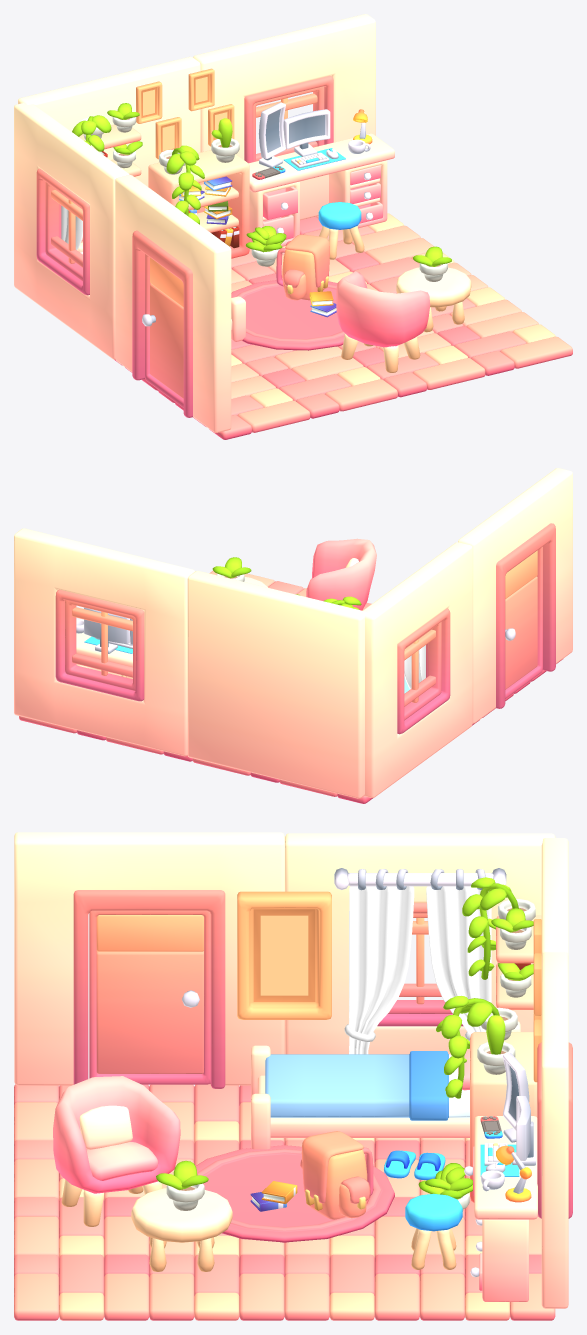
File: bedroom.glb
The picture shows the model from 3 angles, top to bottom: view 1: azimuth 30°, elevation 25°; view 2: azimuth 150°, elevation 25°; view 3: azimuth 270°, elevation 25°; orthographic projection. The views are drawn at different scales.
Parts seen in each view (by area): view 1: floor.001_35, wall_door.001_37, wall_window.001_38, wall_window.002_48, wall.001_40, chair.001_43, desk.001_44, rug.001_47, door.001_36, window.001_39, cabinet_01.001_42, window.002_49 (+18 smaller); view 2: wall.001_40, wall_window.002_48, wall_window.001_38, wall_door.001_37, window.002_49, door.001_36, window.001_39, chair.001_43, floor.001_35, computer_monitor_01_6, desk.001_44, plants_01.001_53 (+1 smaller); view 3: floor.001_35, wall_door.001_37, door.001_36, wall_window.001_38, bed.001_41, curtain.001_56, chair.001_43, frame.001_46, wall_window.002_48, rug.001_47, desk.001_44, bag_28 (+19 smaller).
Part boxes in pixels (left/top/right/bottom): floor.001_35: left=114, top=213, right=572, bottom=439; wall_door.001_37: left=115, top=175, right=231, bottom=432; wall_window.001_38: left=14, top=103, right=129, bottom=359; wall_window.002_48: left=193, top=14, right=375, bottom=220; wall.001_40: left=18, top=56, right=200, bottom=242; chair.001_43: left=335, top=271, right=430, bottom=372; desk.001_44: left=249, top=133, right=394, bottom=246; rug.001_47: left=231, top=279, right=344, bottom=350; door.001_36: left=142, top=254, right=183, bottom=407; window.001_39: left=36, top=168, right=89, bottom=295; cabinet_01.001_42: left=148, top=150, right=249, bottom=258; window.002_49: left=244, top=76, right=333, bottom=163; wall.001_40: left=187, top=570, right=367, bottom=798; wall_window.002_48: left=14, top=528, right=194, bottom=756; wall_window.001_38: left=363, top=542, right=472, bottom=797; wall_door.001_37: left=458, top=468, right=572, bottom=723; window.002_49: left=55, top=589, right=144, bottom=701; door.001_36: left=505, top=546, right=542, bottom=698; window.001_39: left=397, top=608, right=450, bottom=734; chair.001_43: left=306, top=538, right=376, bottom=610; floor.001_35: left=19, top=571, right=562, bottom=803; computer_monitor_01_6: left=84, top=607, right=130, bottom=653; desk.001_44: left=76, top=632, right=132, bottom=678; plants_01.001_53: left=212, top=557, right=251, bottom=581; floor.001_35: left=14, top=1084, right=555, bottom=1320; wall_door.001_37: left=14, top=832, right=284, bottom=1088; door.001_36: left=89, top=910, right=210, bottom=1084; wall_window.001_38: left=285, top=833, right=555, bottom=1054; bed.001_41: left=251, top=1021, right=520, bottom=1149; curtain.001_56: left=334, top=868, right=506, bottom=1054; chair.001_43: left=53, top=1076, right=180, bottom=1226; frame.001_46: left=237, top=891, right=331, bottom=1019; wall_window.002_48: left=541, top=952, right=568, bottom=1308; rug.001_47: left=195, top=1145, right=394, bottom=1242; desk.001_44: left=474, top=1116, right=537, bottom=1301; bag_28: left=300, top=1131, right=373, bottom=1219.
Size of the model in its own units: 4.16 by 2.1 by 4.13.
Materials: 1 (1 with a texture image).
